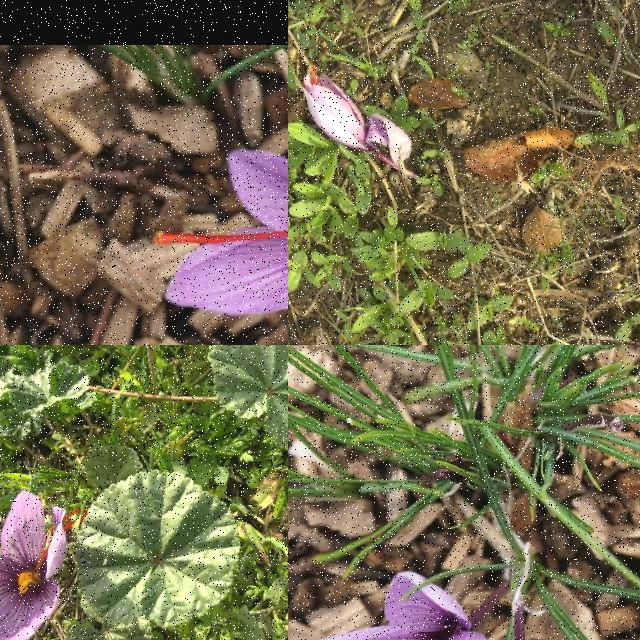flower: (150, 59, 288, 345), (288, 571, 521, 640), (0, 491, 86, 640), (302, 65, 370, 151)
